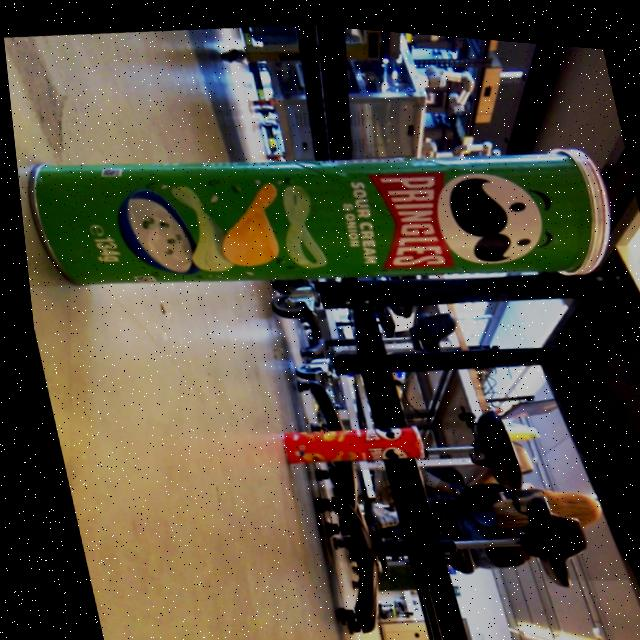greenpringles: (7, 81, 640, 350)
redpringles: (262, 399, 436, 483)
